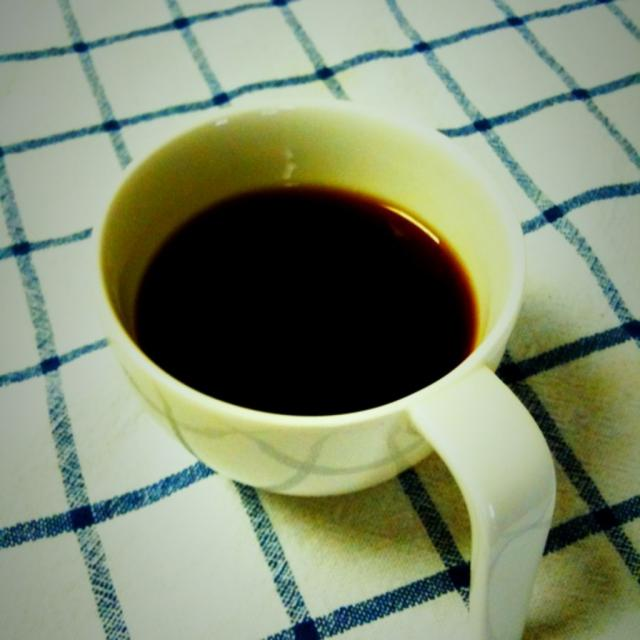Coffee: (134, 182, 477, 416)
Tea: (138, 179, 480, 415)
